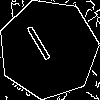I: (23, 24, 59, 70)
